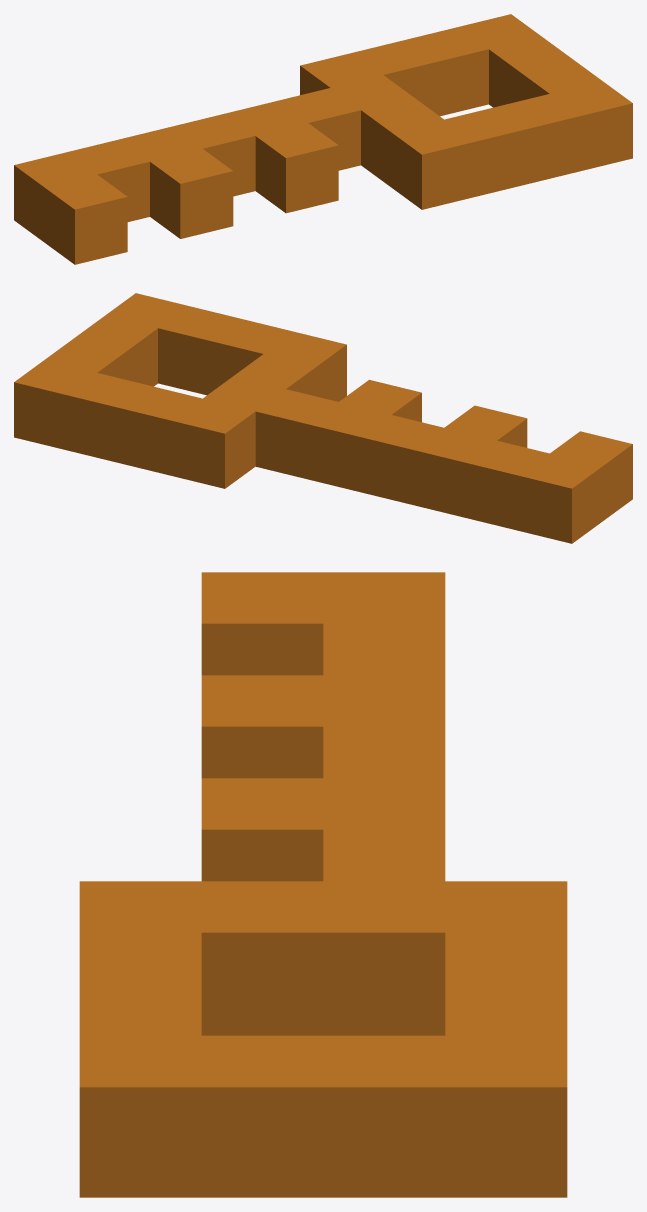
The model's file is key.dae.
3 views of the same model, one above another, from view 1: azimuth 30°, elevation 25°; view 2: azimuth 150°, elevation 25°; view 3: azimuth 270°, elevation 25° (orthographic). The views are drawn at different scales.
Visible parts, largest first — view 1: key; view 2: key; view 3: key.
Part boxes in pixels (x1,y1,x2,y2): key: (14, 14, 632, 264); key: (14, 293, 632, 543); key: (79, 572, 567, 1197).
Size of the model in its own units: 1 by 0.1 by 0.4.
1 material, 1 textured.
